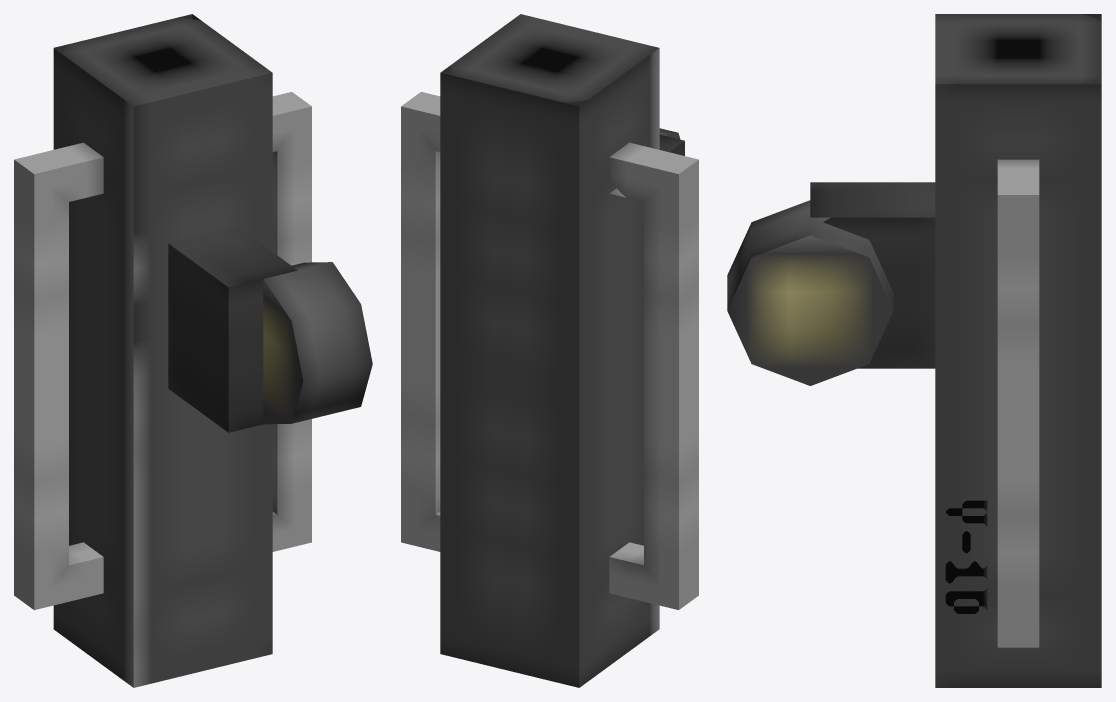
Rendered from assembly_machine_head_1.obj.
3 renders of one model, left to right at view 1: azimuth 30°, elevation 25°; view 2: azimuth 150°, elevation 25°; view 3: azimuth 270°, elevation 25°, orthographic. The views are drawn at different scales.
Visible parts, largest first — view 1: Head1; view 2: Head1; view 3: Head1.
Boxes of the visible parts, box(x1,y1,x2,y2) form: Head1: box(14, 14, 372, 687); Head1: box(401, 14, 698, 687); Head1: box(727, 14, 1101, 687).
Size of the model in its own units: 0.5 by 1 by 0.5625.
